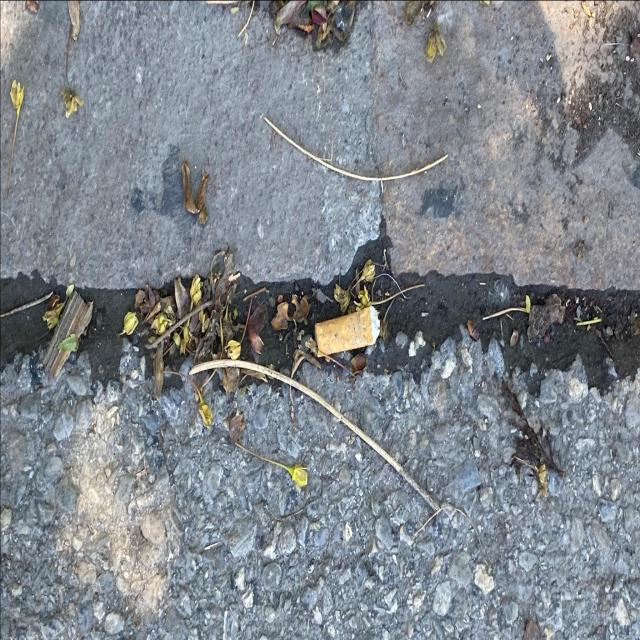other waste: (314, 304, 380, 358)
